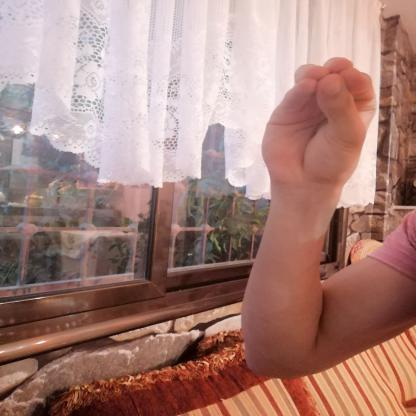HA: (250, 46, 387, 204)
